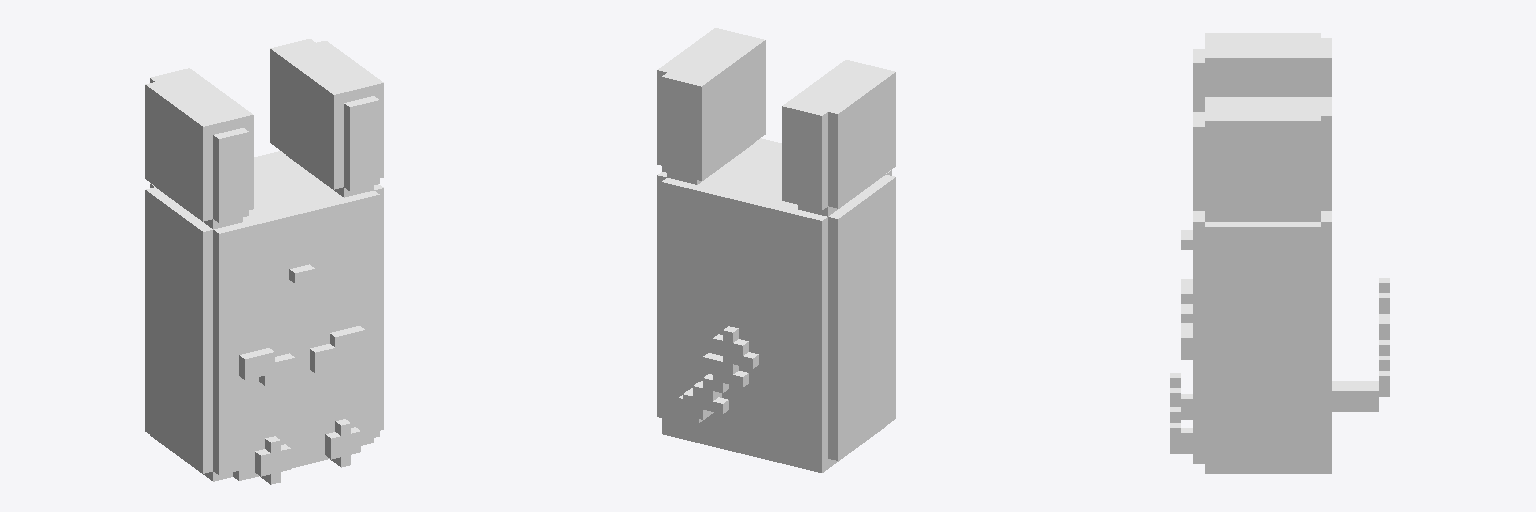
File: pika.obj
3 views of the same model, side by side, from view 1: azimuth 30°, elevation 25°; view 2: azimuth 150°, elevation 25°; view 3: azimuth 270°, elevation 25° (orthographic).
Parts seen in each view (by area): view 1: object 1; view 2: object 1; view 3: object 1.
Boxes of the visible parts, box(x1,y1,x2,y2) form: object 1: box(145, 39, 383, 484); object 1: box(657, 28, 895, 472); object 1: box(1170, 33, 1389, 473).
Size of the model in its own units: 1.8 by 3.4 by 1.9.